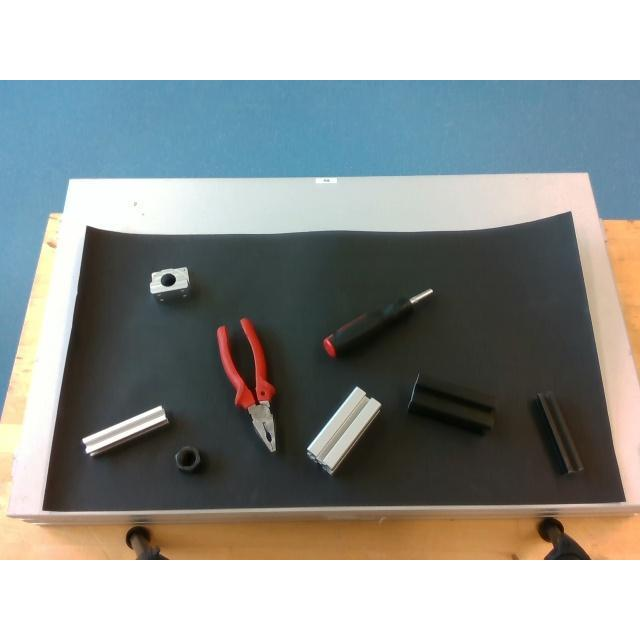F20_20_B: (537, 391, 583, 474)
F20_20_G: (82, 406, 168, 454)
M20: (174, 446, 200, 470)
S40_40_B: (408, 371, 496, 434)
S40_40_G: (307, 386, 381, 474)
